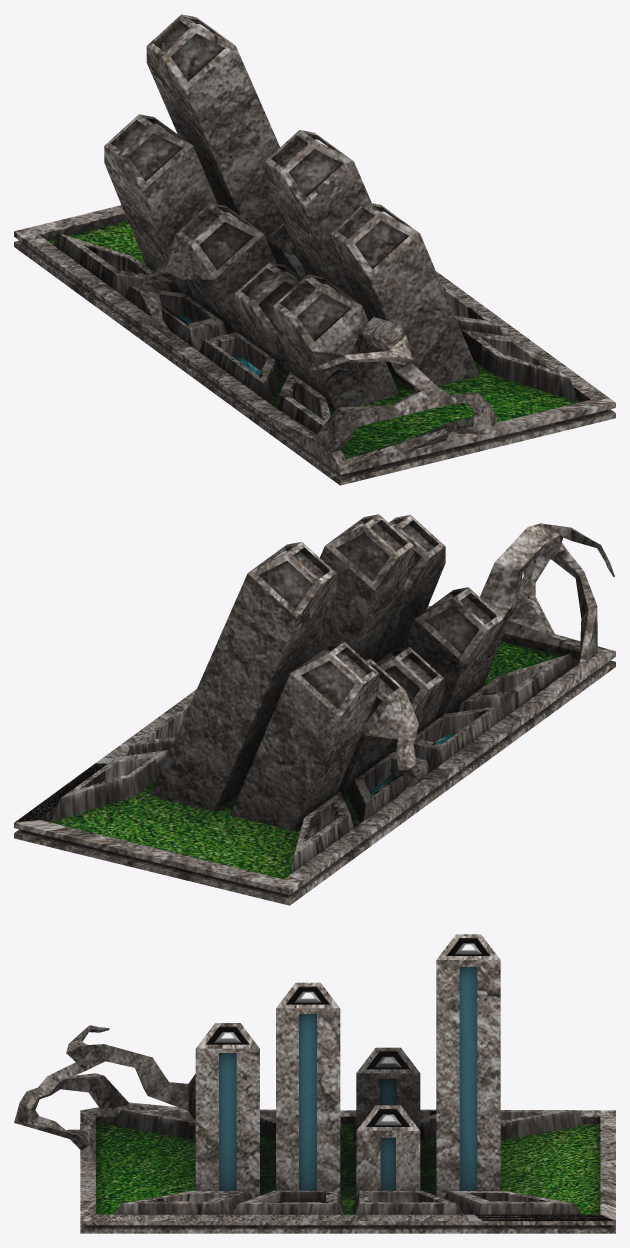
File: Sculpture.fbx
The picture shows the model from 3 angles, top to bottom: view 1: azimuth 30°, elevation 25°; view 2: azimuth 150°, elevation 25°; view 3: azimuth 270°, elevation 25°; orthographic projection. The views are drawn at different scales.
Visible parts, largest first — view 1: Art_Sculpture; view 2: Art_Sculpture; view 3: Art_Sculpture.
Boxes of the visible parts, x1,y1,x2,y2 form: Art_Sculpture: (14,14,615,485); Art_Sculpture: (14,514,615,905); Art_Sculpture: (14,934,615,1233).
Bounding box in the file's own units: 3.08 × 2.74 × 6.71.
